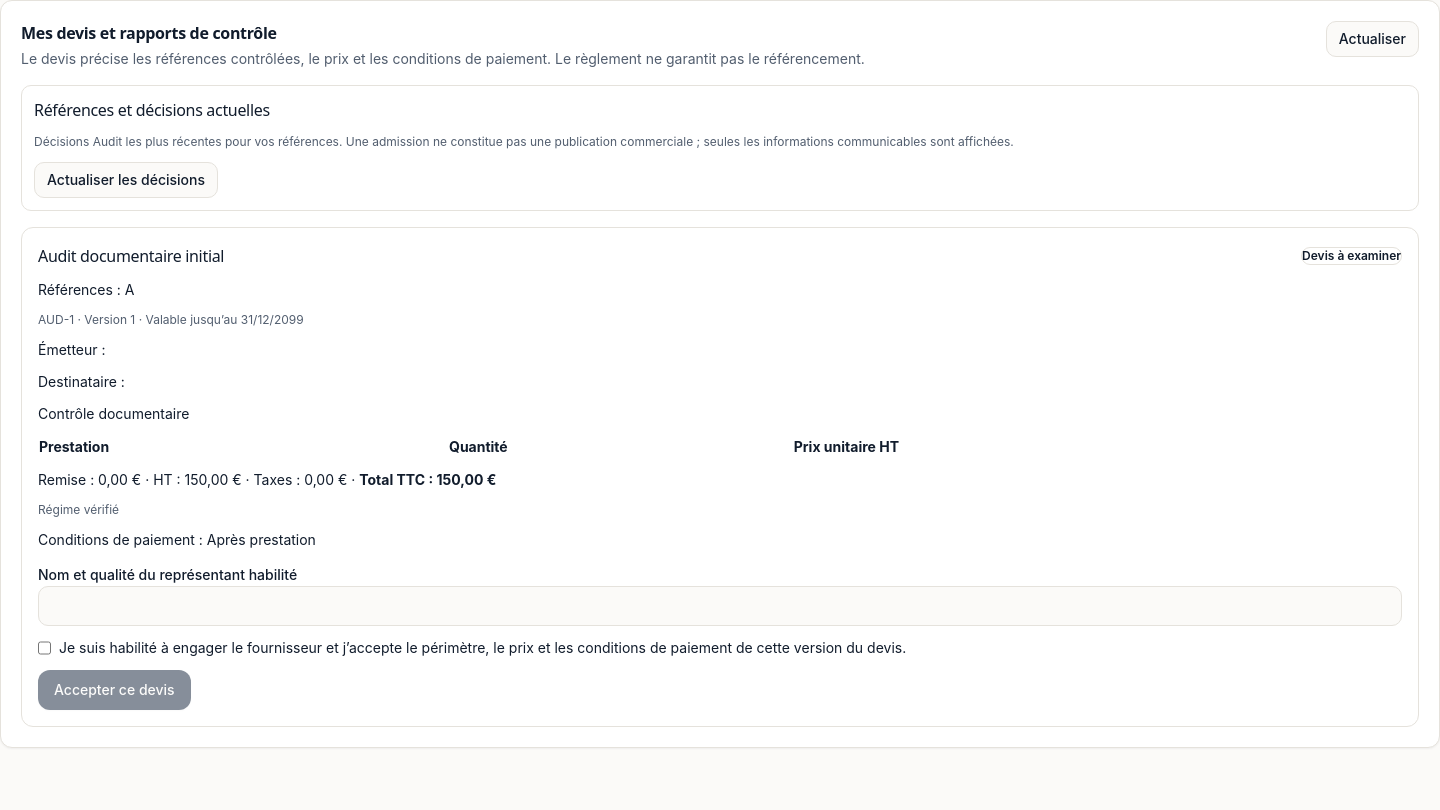
supplier quote consent › requires fresh consent when a background refresh replaces the displayed quote
The image size is (1440, 810).
Later steps or results of the test are not shown.
Expected: the button "Accepter ce devis" is disabled, [38,670,191,710]
Click the checkbox at (44, 648), box [38,638,51,658]
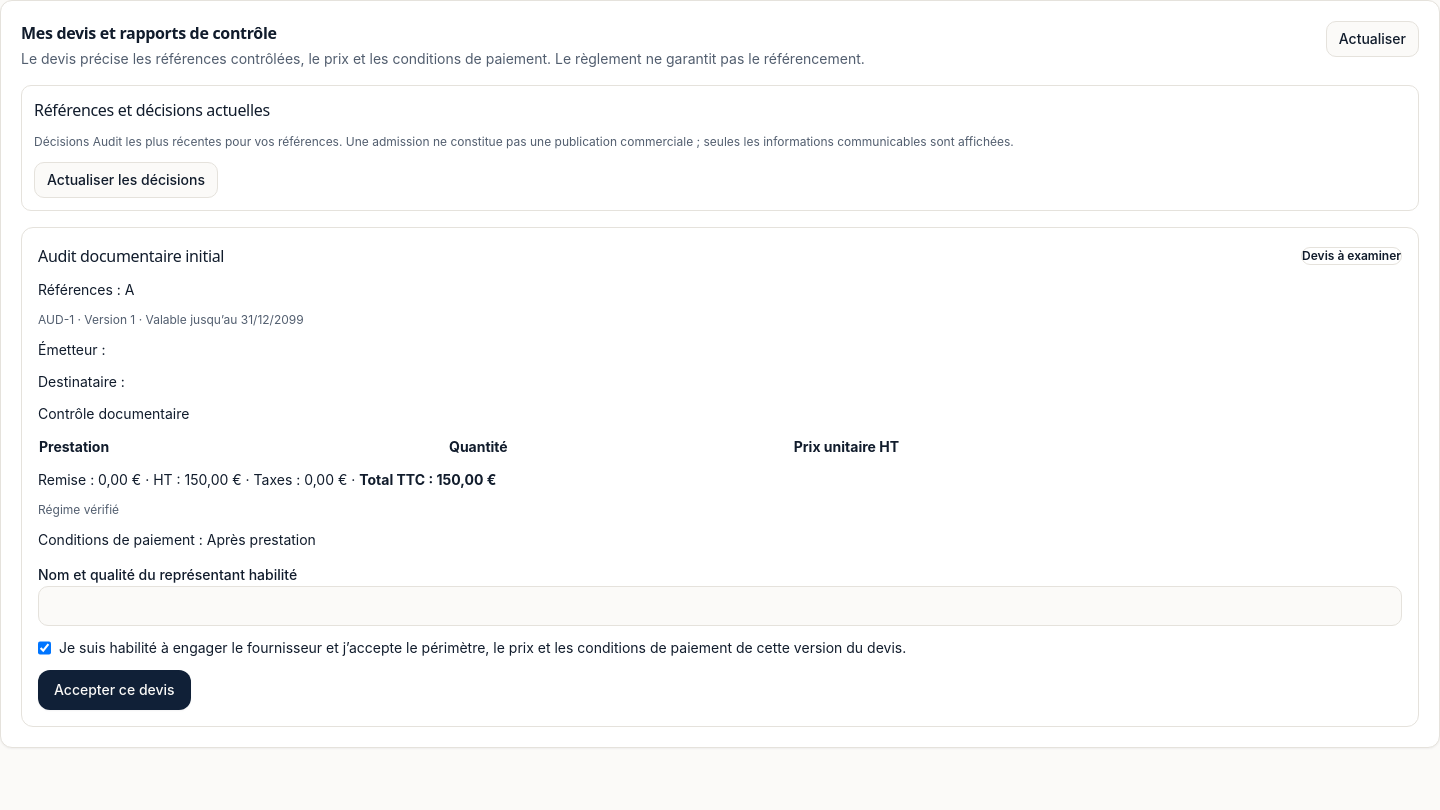
Now the button "Accepter ce devis" is enabled, box [38,670,191,710]
